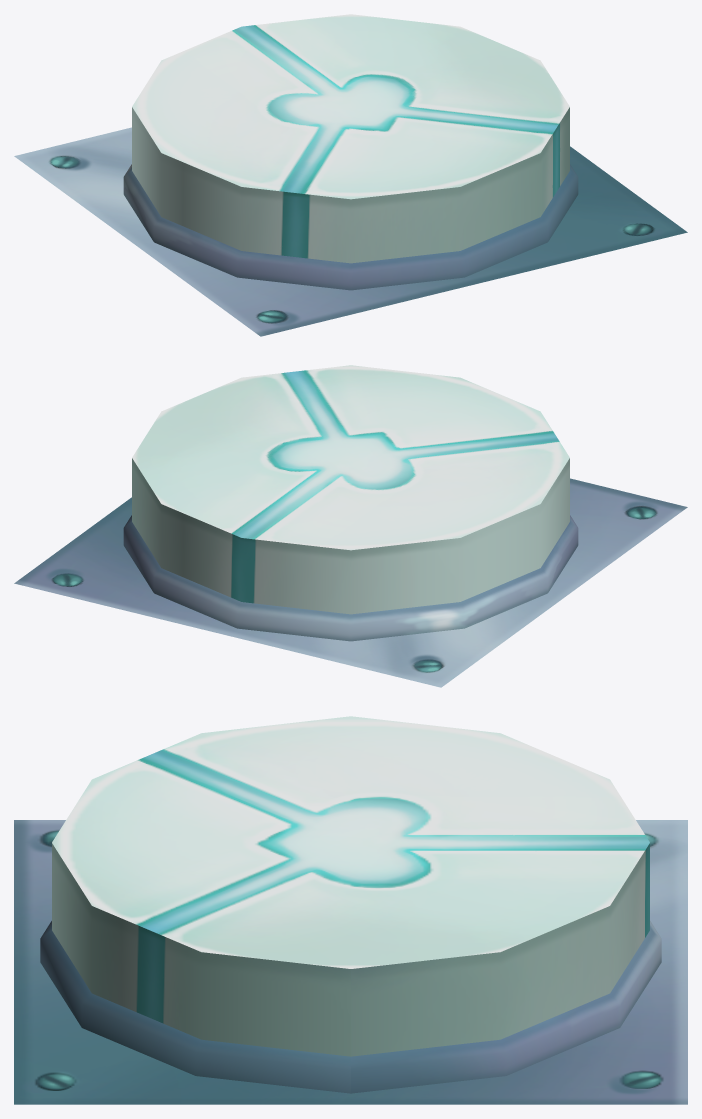
File: Button.FBX
3 renders of one model, top to bottom at view 1: azimuth 30°, elevation 25°; view 2: azimuth 150°, elevation 25°; view 3: azimuth 270°, elevation 25°, orthographic. The views are drawn at different scales.
Visible parts, largest first — view 1: Plane001; view 2: Plane001; view 3: Plane001.
Part boxes in pixels (x1,y1,x2,y2): Plane001: (14,14,687,336); Plane001: (14,365,687,687); Plane001: (14,716,687,1104).
Size of the model in its own units: 7.6 by 1.59 by 7.6.
